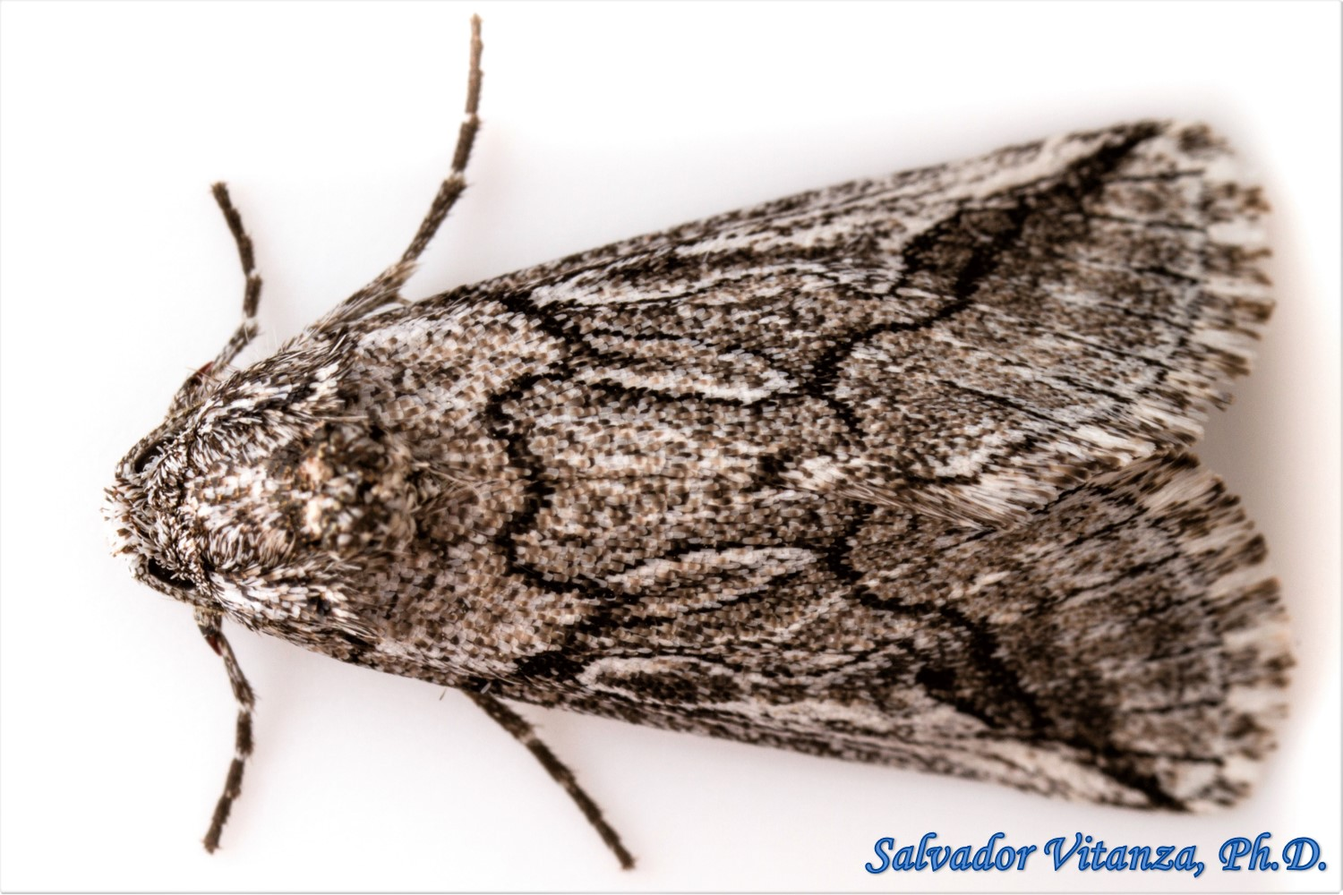Noctuidae: (105, 4, 1322, 859)
